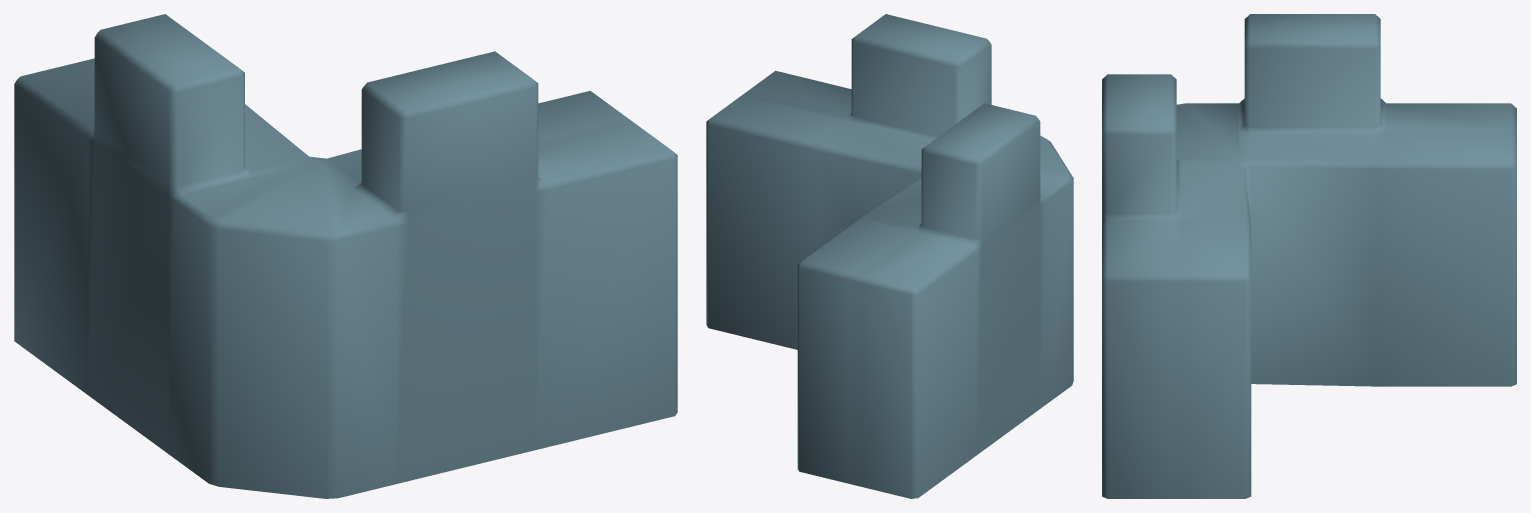
Rendered from wall.corner.001.glb.
3 views of the same model, side by side, from view 1: azimuth 30°, elevation 25°; view 2: azimuth 150°, elevation 25°; view 3: azimuth 270°, elevation 25° (orthographic). The views are drawn at different scales.
Visible parts, largest first — view 1: wall.corner.001; view 2: wall.corner.001; view 3: wall.corner.001.
Boxes of the visible parts, box(x1,y1,x2,y2) form: wall.corner.001: box(14, 14, 677, 498); wall.corner.001: box(706, 14, 1073, 498); wall.corner.001: box(1102, 14, 1516, 498).
Bounding box in the file's own units: 3.66 × 3.04 × 3.66.
